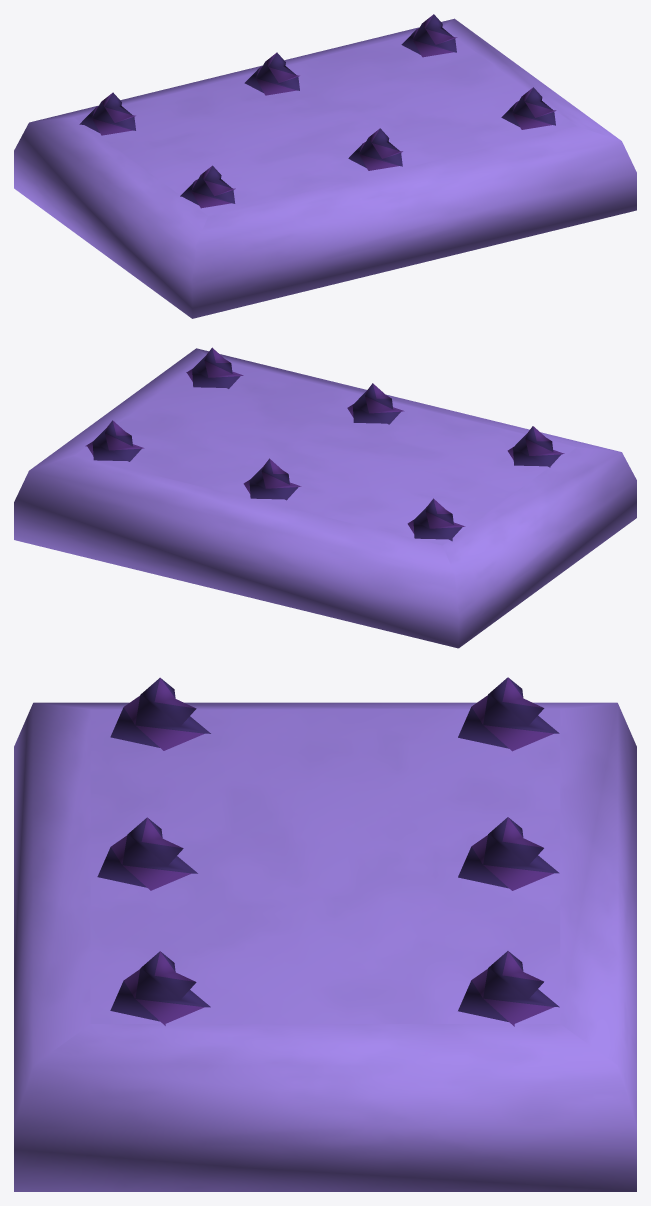
File: Sheet_Cake_A_8.FBX
3 renders of one model, top to bottom at view 1: azimuth 30°, elevation 25°; view 2: azimuth 150°, elevation 25°; view 3: azimuth 270°, elevation 25°, orthographic. The views are drawn at different scales.
Parts seen in each view (by area): view 1: Sheet Cake; view 2: Sheet Cake; view 3: Sheet Cake.
Part boxes in pixels (bbox=[...]): Sheet Cake: bbox=[14, 14, 636, 318]; Sheet Cake: bbox=[14, 347, 636, 648]; Sheet Cake: bbox=[14, 677, 636, 1191].
Size of the model in its own units: 180 by 41.76 by 125.
